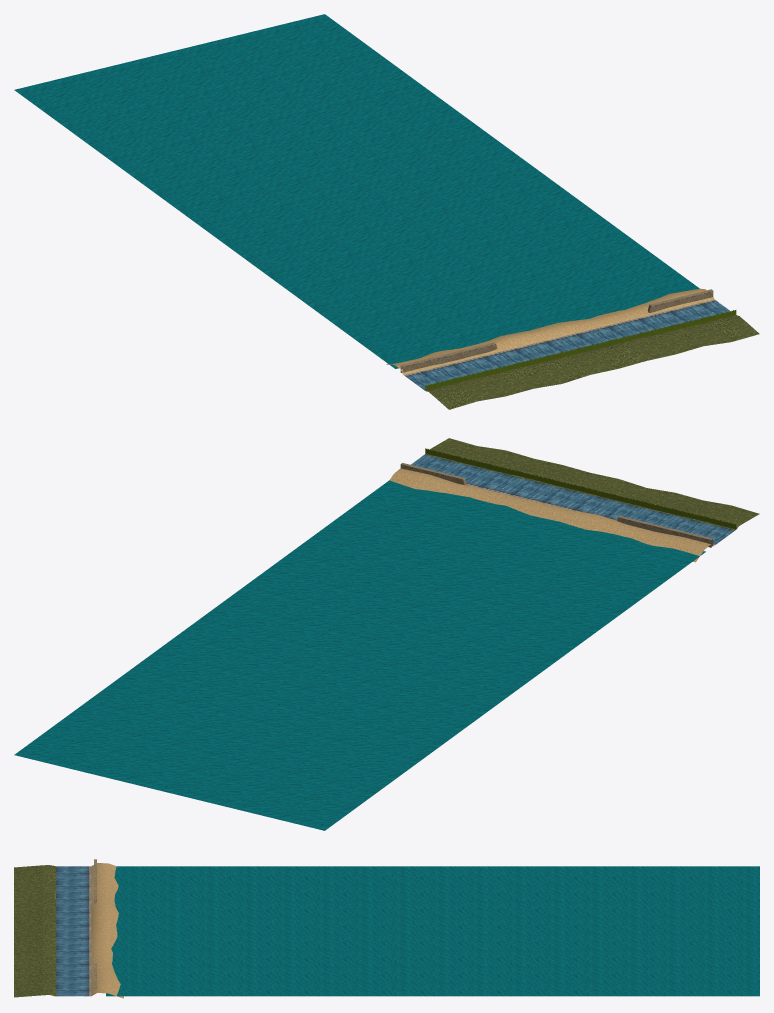
The model's file is terr_seaward_hole.FBX.
3 renders of one model, top to bottom at view 1: azimuth 30°, elevation 25°; view 2: azimuth 150°, elevation 25°; view 3: azimuth 270°, elevation 25°, orthographic. The views are drawn at different scales.
Visible parts, largest first — view 1: water, grass, road, grass01, Box01; view 2: water, grass, road, grass01, Box01; view 3: water, grass, road, grass01.
Boxes of the visible parts, x1=… form: water: x1=14, y1=14, x2=699, y2=368; grass: x1=425, y1=315, x2=759, y2=409; road: x1=404, y1=299, x2=730, y2=391; grass01: x1=386, y1=288, x2=714, y2=375; Box01: x1=400, y1=289, x2=713, y2=373; water: x1=14, y1=480, x2=705, y2=830; grass: x1=425, y1=438, x2=759, y2=530; road: x1=411, y1=454, x2=736, y2=545; grass01: x1=389, y1=468, x2=713, y2=562; Box01: x1=400, y1=463, x2=713, y2=547; water: x1=106, y1=866, x2=759, y2=996; grass: x1=14, y1=865, x2=55, y2=997; road: x1=53, y1=866, x2=91, y2=996; grass01: x1=91, y1=863, x2=123, y2=998.
Size of the model in its own units: 200 by 7.82 by 485.
Materials: 6 (6 with a texture image).
